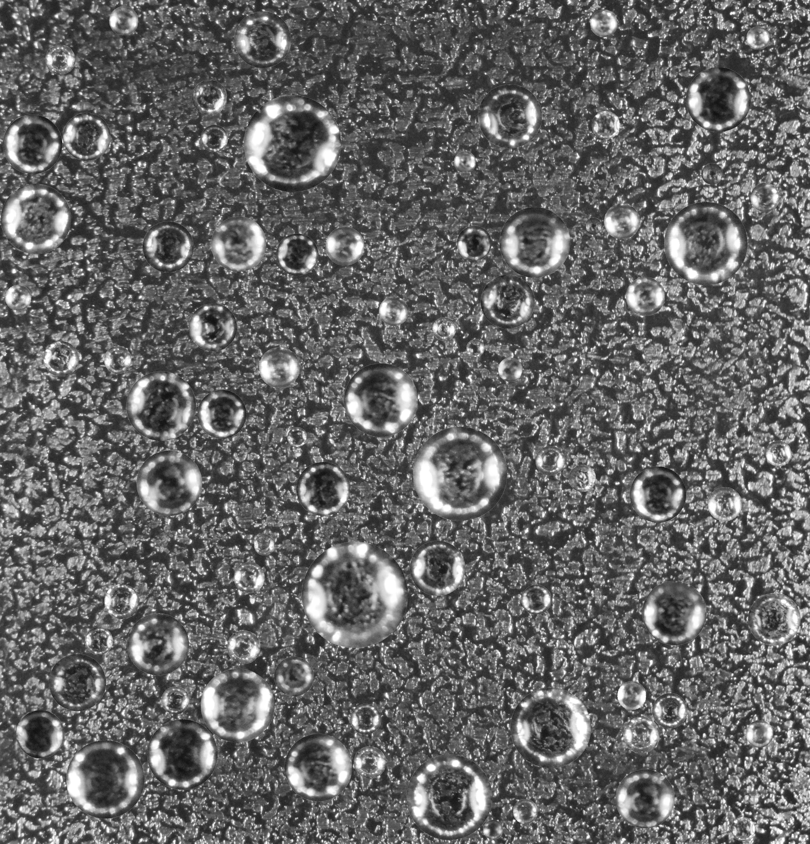Bubble: (301, 541, 407, 647), (244, 95, 340, 191), (413, 426, 507, 520), (406, 754, 492, 840), (664, 201, 747, 285), (510, 687, 590, 768), (66, 740, 144, 818), (200, 668, 274, 742), (344, 363, 417, 436), (499, 207, 570, 277), (147, 719, 217, 789), (0, 183, 70, 253), (126, 371, 195, 440), (284, 734, 351, 801), (136, 450, 201, 515), (642, 581, 706, 645), (686, 67, 750, 131), (478, 84, 541, 148), (127, 613, 188, 675), (2, 114, 62, 173), (615, 769, 674, 828), (48, 654, 105, 711), (630, 466, 686, 522), (234, 11, 290, 67), (211, 216, 266, 271), (410, 540, 465, 595), (480, 274, 534, 328), (296, 462, 350, 515), (748, 593, 800, 645), (142, 221, 193, 272), (197, 389, 246, 438), (188, 303, 236, 351), (16, 710, 64, 758), (62, 112, 110, 160), (276, 233, 318, 275), (259, 347, 299, 387), (274, 656, 313, 696), (325, 226, 364, 265), (626, 277, 664, 315), (623, 717, 659, 753), (604, 203, 639, 239), (192, 79, 227, 114), (652, 693, 687, 728), (456, 225, 491, 260), (43, 341, 78, 376), (104, 584, 139, 619), (707, 487, 741, 521), (227, 630, 260, 663), (353, 746, 385, 778), (233, 562, 264, 593), (350, 704, 381, 734), (45, 44, 75, 74), (521, 584, 551, 614), (535, 446, 565, 475), (750, 182, 779, 211), (379, 296, 408, 325), (109, 6, 138, 35), (617, 681, 646, 709), (591, 111, 619, 139), (161, 686, 189, 714), (84, 627, 112, 654), (568, 464, 595, 491), (200, 124, 227, 151), (590, 9, 617, 36), (104, 346, 131, 373), (746, 720, 773, 747), (765, 440, 791, 466), (5, 284, 31, 310), (498, 357, 522, 381), (513, 799, 537, 823), (731, 817, 755, 841), (432, 317, 455, 340), (746, 26, 769, 49), (454, 151, 475, 172), (701, 163, 722, 184), (254, 534, 274, 555), (483, 820, 502, 839), (287, 427, 306, 446), (466, 339, 484, 357), (584, 217, 601, 234)
